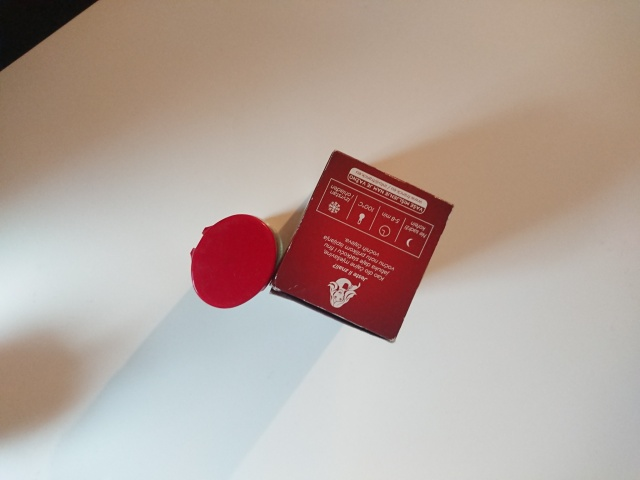Franck Apple Cinnamon Tea 60g: (268, 146, 457, 346)
Kotanyi Curry Spices Mix 70g: (187, 212, 287, 310)
